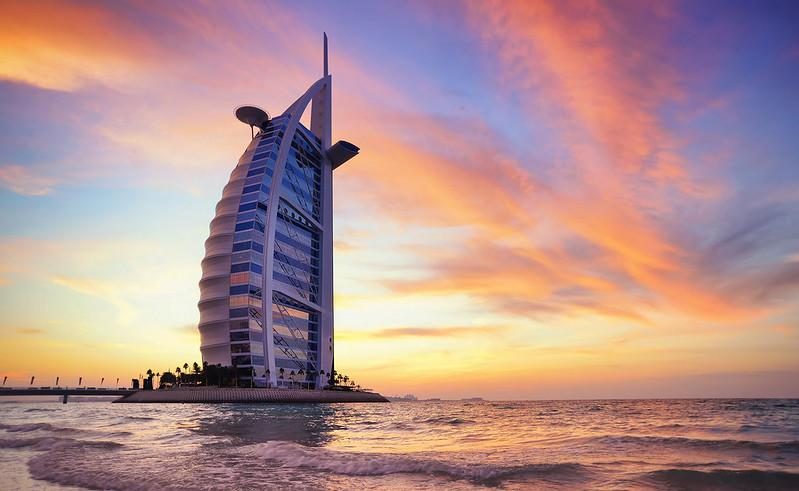building: (190, 64, 352, 393)
